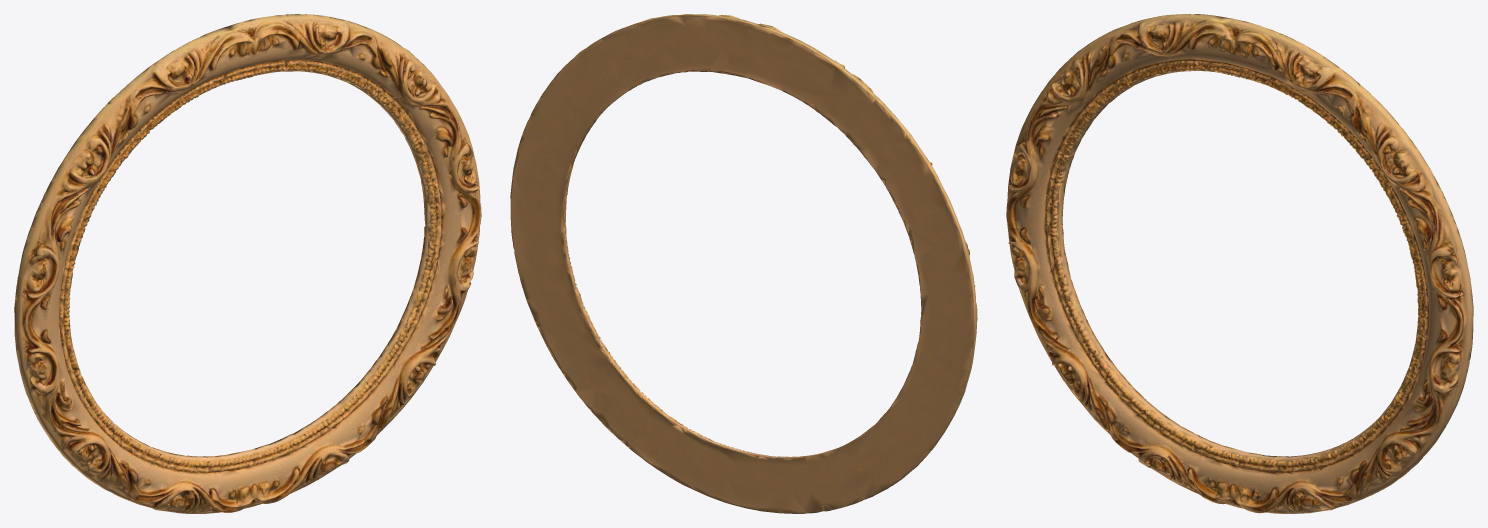
The picture shows the model from 3 angles, left to right: view 1: azimuth 30°, elevation 25°; view 2: azimuth 150°, elevation 25°; view 3: azimuth 330°, elevation 25°; orthographic projection.
Bounding box in the file's own units: 1.9 × 1.9 × 0.0847.
Materials: 1 (1 with a texture image).
